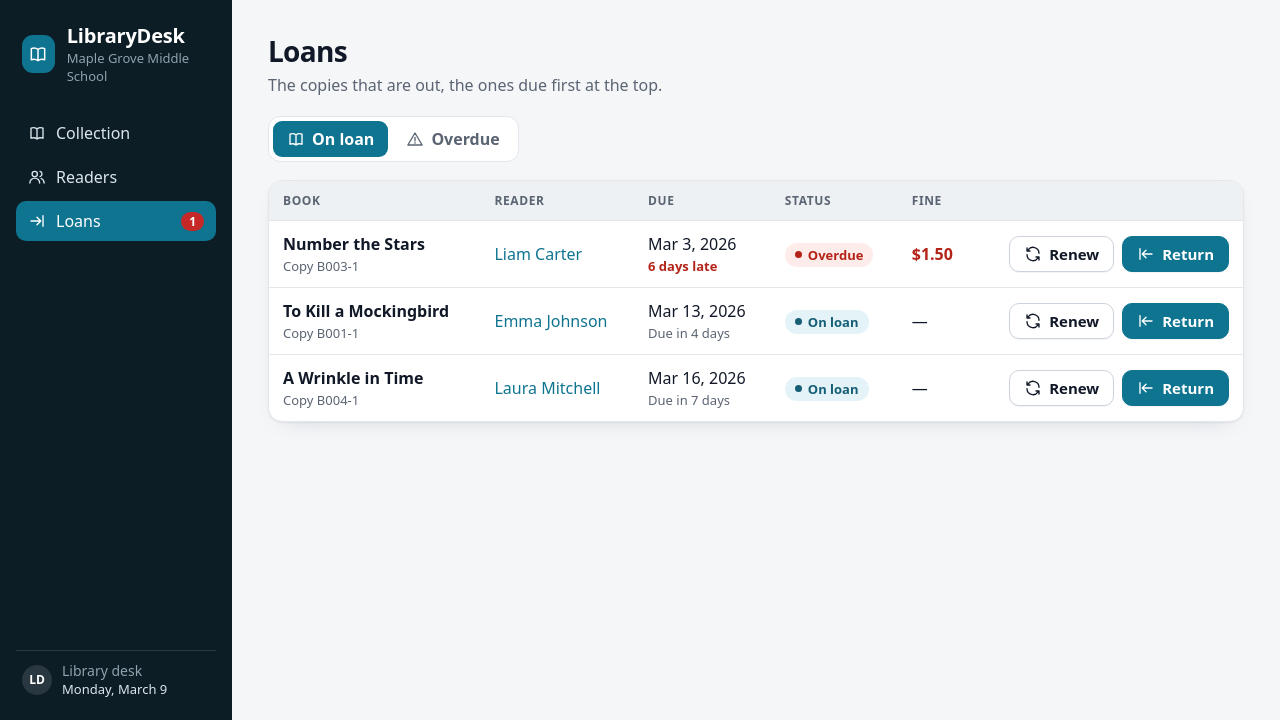
Test: the loans › renews a loan and says the new due date
Check: the navigation bar named "Main" is shown, box x1=16 y1=113 x2=216 y2=241
Check: the table named "Loans" is shown, box x1=268 y1=180 x2=1244 y2=422
Step 1. Click the button with aria-label "Renew To Kill a Mockingbird" → (1062, 321), box x1=1009 y1=303 x2=1114 y2=339
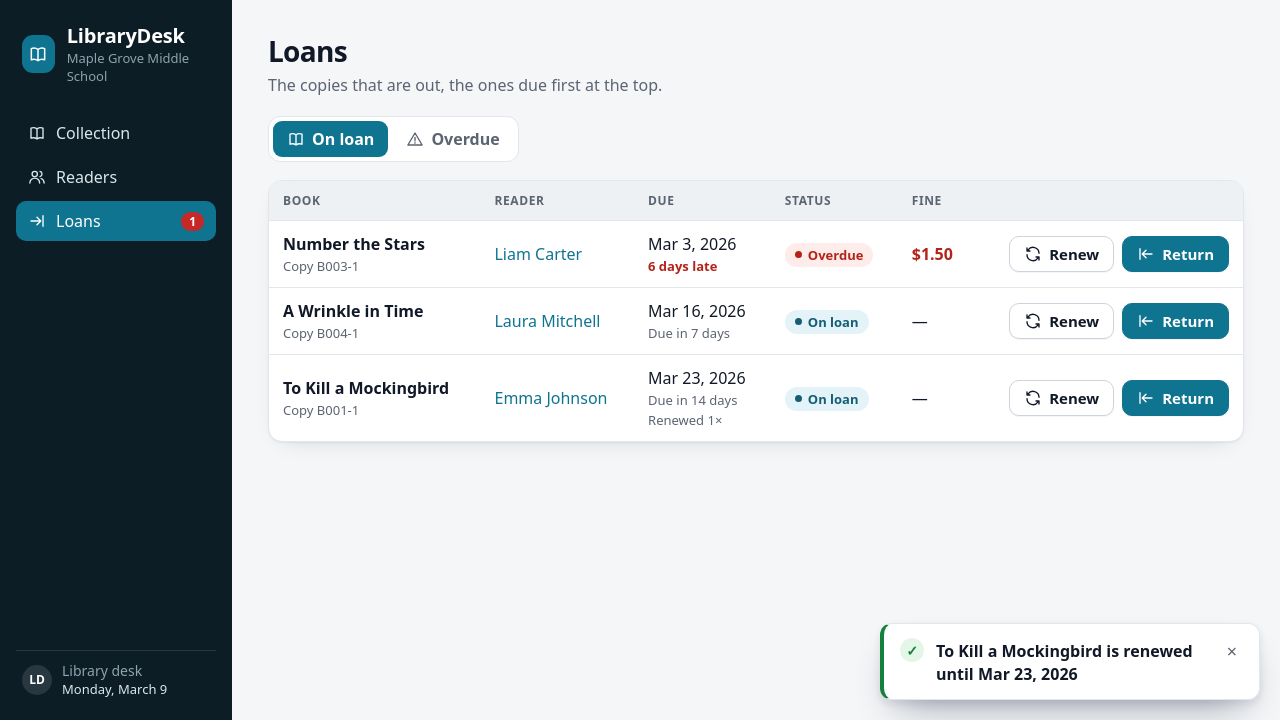
Check: the text "To Kill a Mockingbird is renewed until Mar 23, 2026" is shown, box x1=936 y1=640 x2=1207 y2=685
Check: the text "Renewed 1×" is shown, box x1=648 y1=411 x2=722 y2=429
